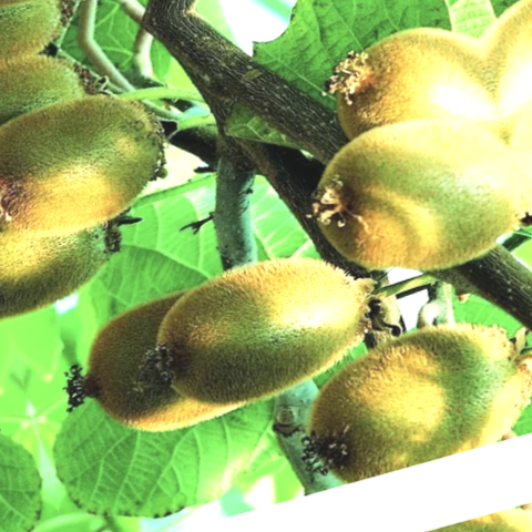kiwi: (254, 285, 532, 532), (125, 212, 407, 445), (297, 93, 532, 331), (0, 62, 188, 265)
